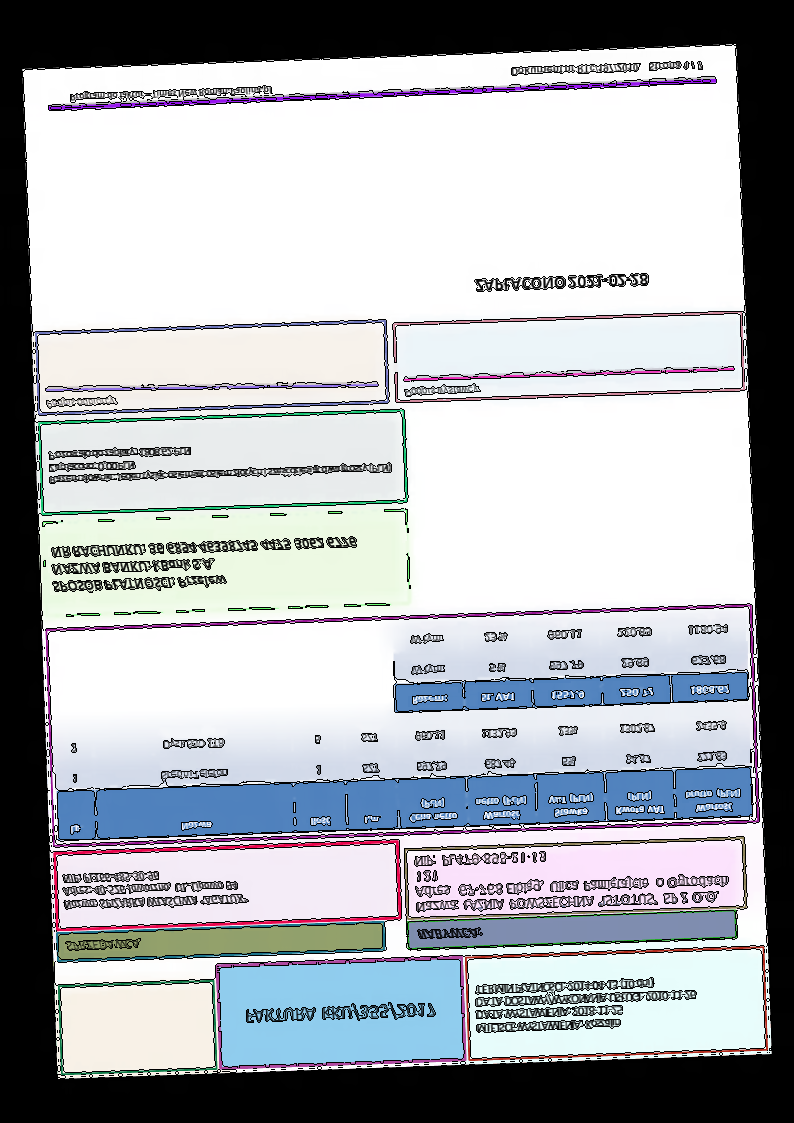Table: (53, 704, 754, 842), (391, 608, 751, 714)
TextBox: (411, 843, 730, 916), (48, 531, 359, 599), (46, 436, 396, 489), (473, 974, 698, 1038), (60, 866, 250, 913), (243, 998, 437, 1027), (66, 83, 275, 104), (509, 58, 708, 80), (474, 271, 650, 295), (63, 936, 144, 956), (402, 381, 483, 400), (44, 393, 118, 413), (415, 925, 484, 944)
